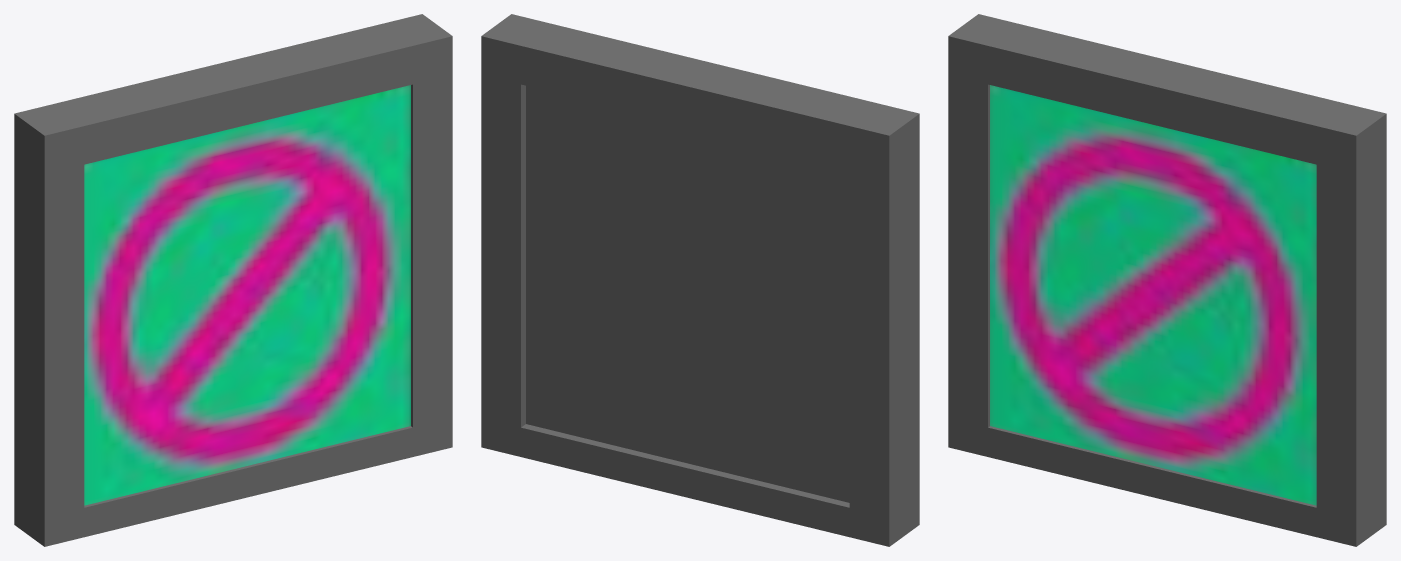
File: Sign_Small_1.glb
The picture shows the model from 3 angles, left to right: view 1: azimuth 30°, elevation 25°; view 2: azimuth 150°, elevation 25°; view 3: azimuth 330°, elevation 25°; orthographic projection.
Parts seen in each view (by area): view 1: Sign_Small_1; view 2: Sign_Small_1; view 3: Sign_Small_1.
Part boxes in pixels (x1,y1,x2,y2): Sign_Small_1: (14,14,452,546); Sign_Small_1: (481,14,919,546); Sign_Small_1: (948,14,1386,546).
Bounding box in the file's own units: 0.4802 × 0.4622 × 0.0618.
2 materials, 1 textured.
